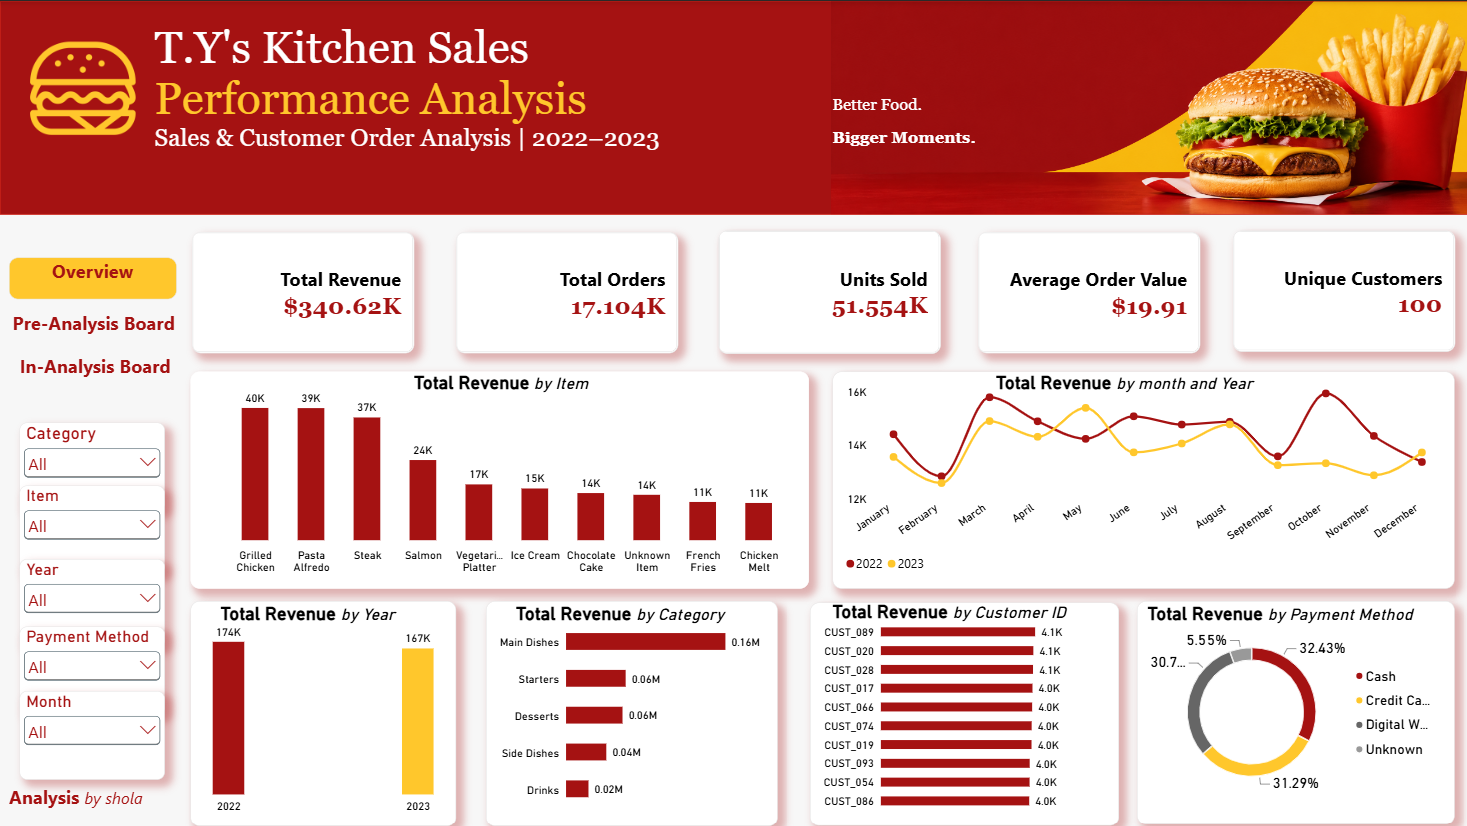

What the dashboard file says about the page in this screenshot:
{"tool":"powerbi","page":{"name":"Dashboard","canvas":[1920,1080],"ordinal":1},"visuals":[{"type":"textbox","box":[0,0,1919.3,279.4],"z":0},{"type":"image","box":[34.1,52.2,149.9,138.5],"z":1000},{"type":"textbox","box":[202.1,27.3,738.2,190.8],"z":2000},{"type":"image","box":[1085.7,0,833.6,279.4],"z":3000},{"type":"cardVisual","fields":{"Data":["restaurant_sales_dataset.Total Revenue"]},"box":[251,302,290.7,159],"z":4000},{"type":"cardVisual","fields":{"Data":["restaurant_sales_dataset.Average Order Value"]},"box":[1278.8,302,290.7,159],"z":5000},{"type":"cardVisual","fields":{"Data":["restaurant_sales_dataset.Total Orders"]},"box":[596.2,302,290.7,159],"z":6000},{"type":"cardVisual","fields":{"Data":["restaurant_sales_dataset.Units Sold"]},"box":[939.5,300.1,290.7,161.3],"z":7000},{"type":"clusteredColumnChart","fields":{"Category":["restaurant_sales_dataset.Item"],"Y":["restaurant_sales_dataset.Total Revenue"]},"box":[249.8,483.8,808.6,283.9],"z":9000},{"type":"lineChart","fields":{"Category":["restaurant_sales_dataset.Month Name"],"Series":["restaurant_sales_dataset.Year"],"Y":["restaurant_sales_dataset.Total Revenue"]},"box":[1088,483.8,813.1,283.9],"z":10000},{"type":"clusteredColumnChart","fields":{"Category":["restaurant_sales_dataset.Year"],"Y":["restaurant_sales_dataset.Total Revenue"]},"box":[249.8,783.6,347.5,295.3],"z":11000},{"type":"clusteredBarChart","fields":{"Category":["restaurant_sales_dataset.Category"],"Y":["restaurant_sales_dataset.Total Revenue"]},"box":[636,783.6,381.6,295.3],"z":12000},{"type":"donutChart","fields":{"Category":["restaurant_sales_dataset.Payment Method"],"Y":["restaurant_sales_dataset.Total Revenue"]},"box":[1486.7,784.5,415.6,293],"z":13000},{"type":"clusteredBarChart","fields":{"Category":["restaurant_sales_dataset.Customer ID"],"Y":["restaurant_sales_dataset.Total Revenue"]},"box":[1058.4,785.9,404.3,293],"z":14000},{"type":"textbox","box":[1088,122.7,318,70.4],"z":15000},{"type":"textbox","box":[540.6,483.8,506.5,59.1],"z":16000},{"type":"textbox","box":[674.6,785.9,286.2,59.1],"z":17000},{"type":"textbox","box":[1088,783.6,506.5,59.1],"z":18000},{"type":"textbox","box":[1500.4,786.5,396.2,58.8],"z":19000},{"type":"textbox","box":[288.5,785.9,252.1,59.1],"z":20000},{"type":"textbox","box":[1301.5,483.8,506.5,59.1],"z":21000},{"type":"slicer","fields":{"Values":["restaurant_sales_dataset.Category"]},"box":[25.6,550.5,189.9,116.2],"z":22000},{"type":"slicer","fields":{"Values":["restaurant_sales_dataset.Item"]},"box":[25.6,632.7,189.9,116.2],"z":22001},{"type":"slicer","fields":{"Values":["restaurant_sales_dataset.Year"]},"box":[25.6,729.1,189.9,116.2],"z":22002},{"type":"slicer","fields":{"Values":["restaurant_sales_dataset.Payment Method"]},"box":[25.6,817,189.9,116.2],"z":22003},{"type":"slicer","fields":{"Values":["restaurant_sales_dataset.Month Name"]},"box":[25.6,902,189.9,116.2],"z":22004},{"type":"textbox","box":[1770,300,150,159],"z":22005},{"type":"textbox","box":[11.8,404,221.6,56.9],"z":22006},{"type":"textbox","box":[11.8,335.4,219.7,54.9],"z":22009},{"type":"textbox","box":[11.8,1023.8,232.2,56.4],"z":22010},{"type":"cardVisual","fields":{"Data":["restaurant_sales_dataset.Unique Customers"]},"box":[1612.2,300.1,290.7,159],"z":22011},{"type":"textbox","box":[13.7,460.9,221.6,56.9],"z":22012}]}

Visuals, with their boxes in screenshot pixels (x1, y1, x2, y2), scaled from the page's 1920x1080 canvas onto the 1467x826 screenshot:
textbox: crop(0, 0, 1466, 214)
image: crop(26, 40, 141, 146)
textbox: crop(154, 21, 718, 167)
image: crop(830, 0, 1466, 214)
cardVisual - restaurant_sales_dataset.Total Revenue: crop(192, 231, 414, 353)
cardVisual - restaurant_sales_dataset.Average Order Value: crop(977, 231, 1199, 353)
cardVisual - restaurant_sales_dataset.Total Orders: crop(456, 231, 678, 353)
cardVisual - restaurant_sales_dataset.Units Sold: crop(718, 230, 940, 353)
clusteredColumnChart - restaurant_sales_dataset.Item x restaurant_sales_dataset.Total Revenue: crop(191, 370, 809, 587)
lineChart - restaurant_sales_dataset.Month Name x restaurant_sales_dataset.Year: crop(831, 370, 1453, 587)
clusteredColumnChart - restaurant_sales_dataset.Year x restaurant_sales_dataset.Total Revenue: crop(191, 599, 456, 825)
clusteredBarChart - restaurant_sales_dataset.Category x restaurant_sales_dataset.Total Revenue: crop(486, 599, 778, 825)
donutChart - restaurant_sales_dataset.Payment Method x restaurant_sales_dataset.Total Revenue: crop(1136, 600, 1453, 824)
clusteredBarChart - restaurant_sales_dataset.Customer ID x restaurant_sales_dataset.Total Revenue: crop(809, 601, 1118, 825)
textbox: crop(831, 94, 1074, 148)
textbox: crop(413, 370, 800, 415)
textbox: crop(515, 601, 734, 646)
textbox: crop(831, 599, 1218, 645)
textbox: crop(1146, 602, 1449, 646)
textbox: crop(220, 601, 413, 646)
textbox: crop(994, 370, 1381, 415)
slicer - restaurant_sales_dataset.Category: crop(20, 421, 165, 510)
slicer - restaurant_sales_dataset.Item: crop(20, 484, 165, 573)
slicer - restaurant_sales_dataset.Year: crop(20, 558, 165, 646)
slicer - restaurant_sales_dataset.Payment Method: crop(20, 625, 165, 714)
slicer - restaurant_sales_dataset.Month Name: crop(20, 690, 165, 779)
textbox: crop(1352, 229, 1466, 351)
textbox: crop(9, 309, 178, 353)
textbox: crop(9, 257, 177, 299)
textbox: crop(9, 783, 186, 825)
cardVisual - restaurant_sales_dataset.Unique Customers: crop(1232, 230, 1454, 351)
textbox: crop(10, 353, 180, 396)
